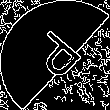P_SE: (22, 24, 88, 86)
